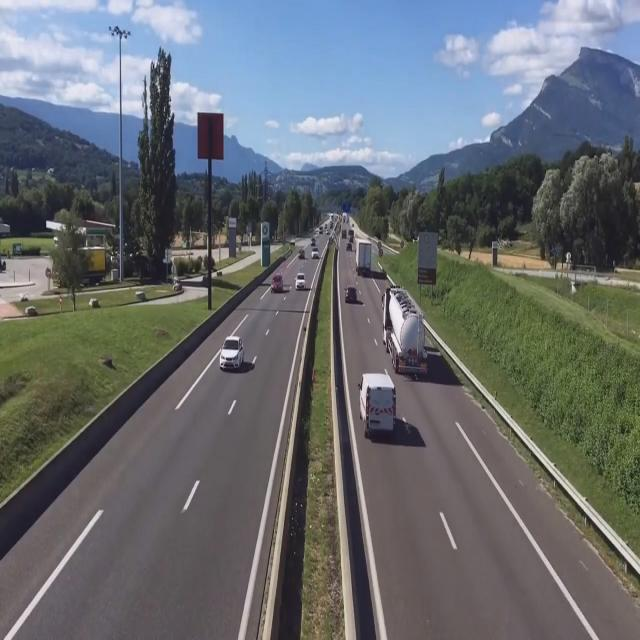bus: (358, 371, 395, 441)
car: (220, 335, 250, 372), (344, 283, 359, 305), (269, 270, 283, 292), (295, 272, 306, 290)
truck: (382, 282, 430, 380), (354, 238, 372, 278)
